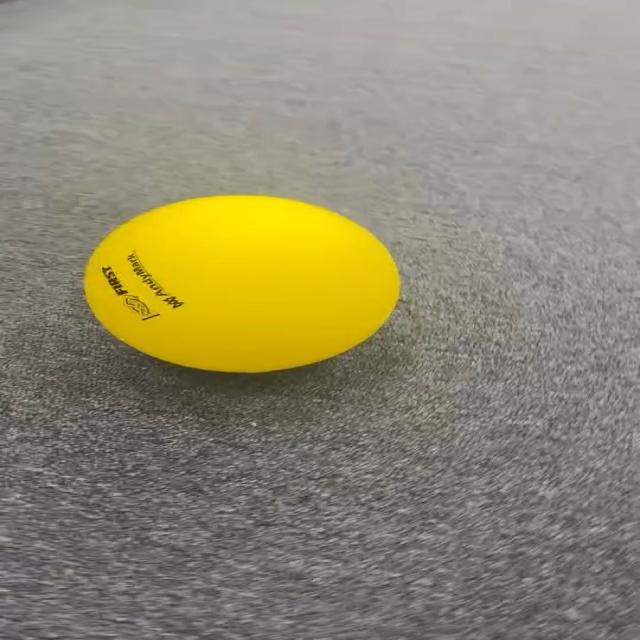Fuels: (85, 196, 395, 368)
